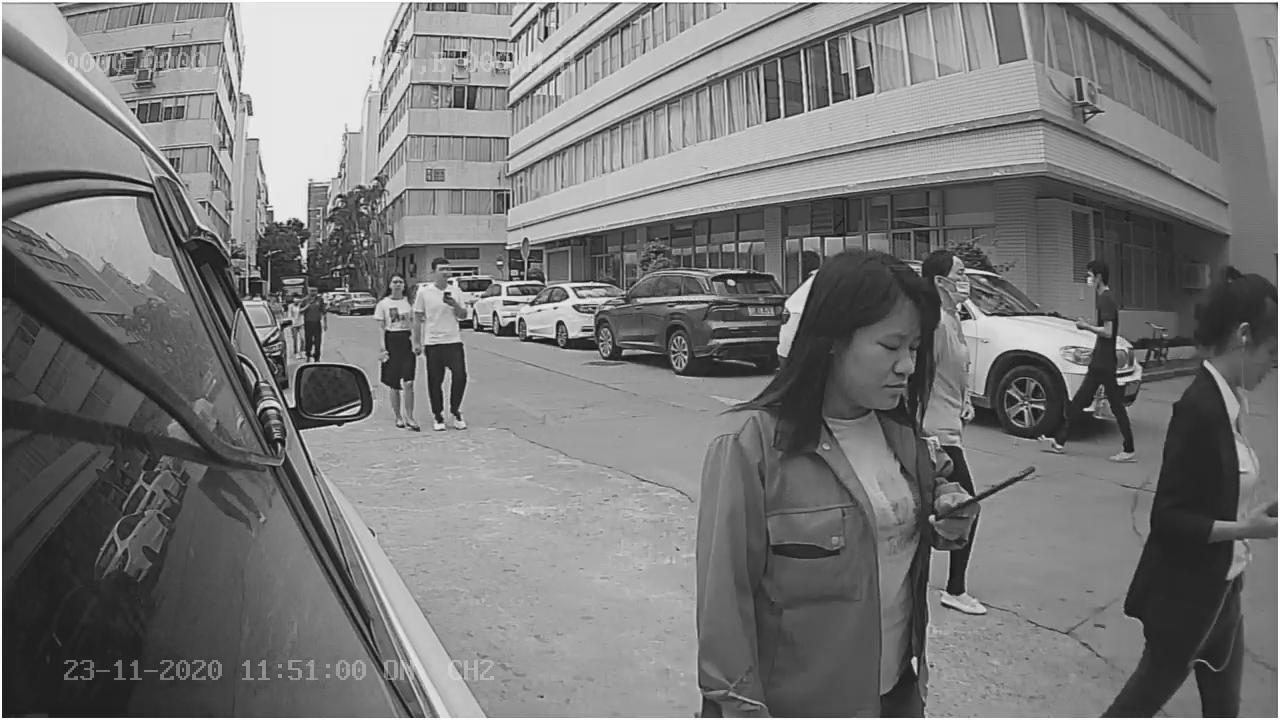person: (1034, 252, 1139, 464), (375, 269, 424, 430)
